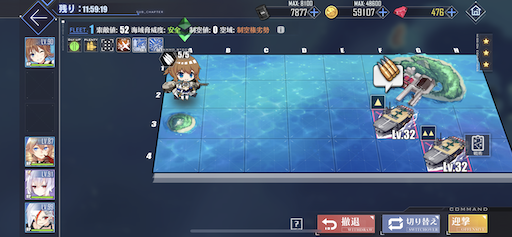lv1: (367, 93, 416, 137)
lv2: (420, 122, 473, 176)
